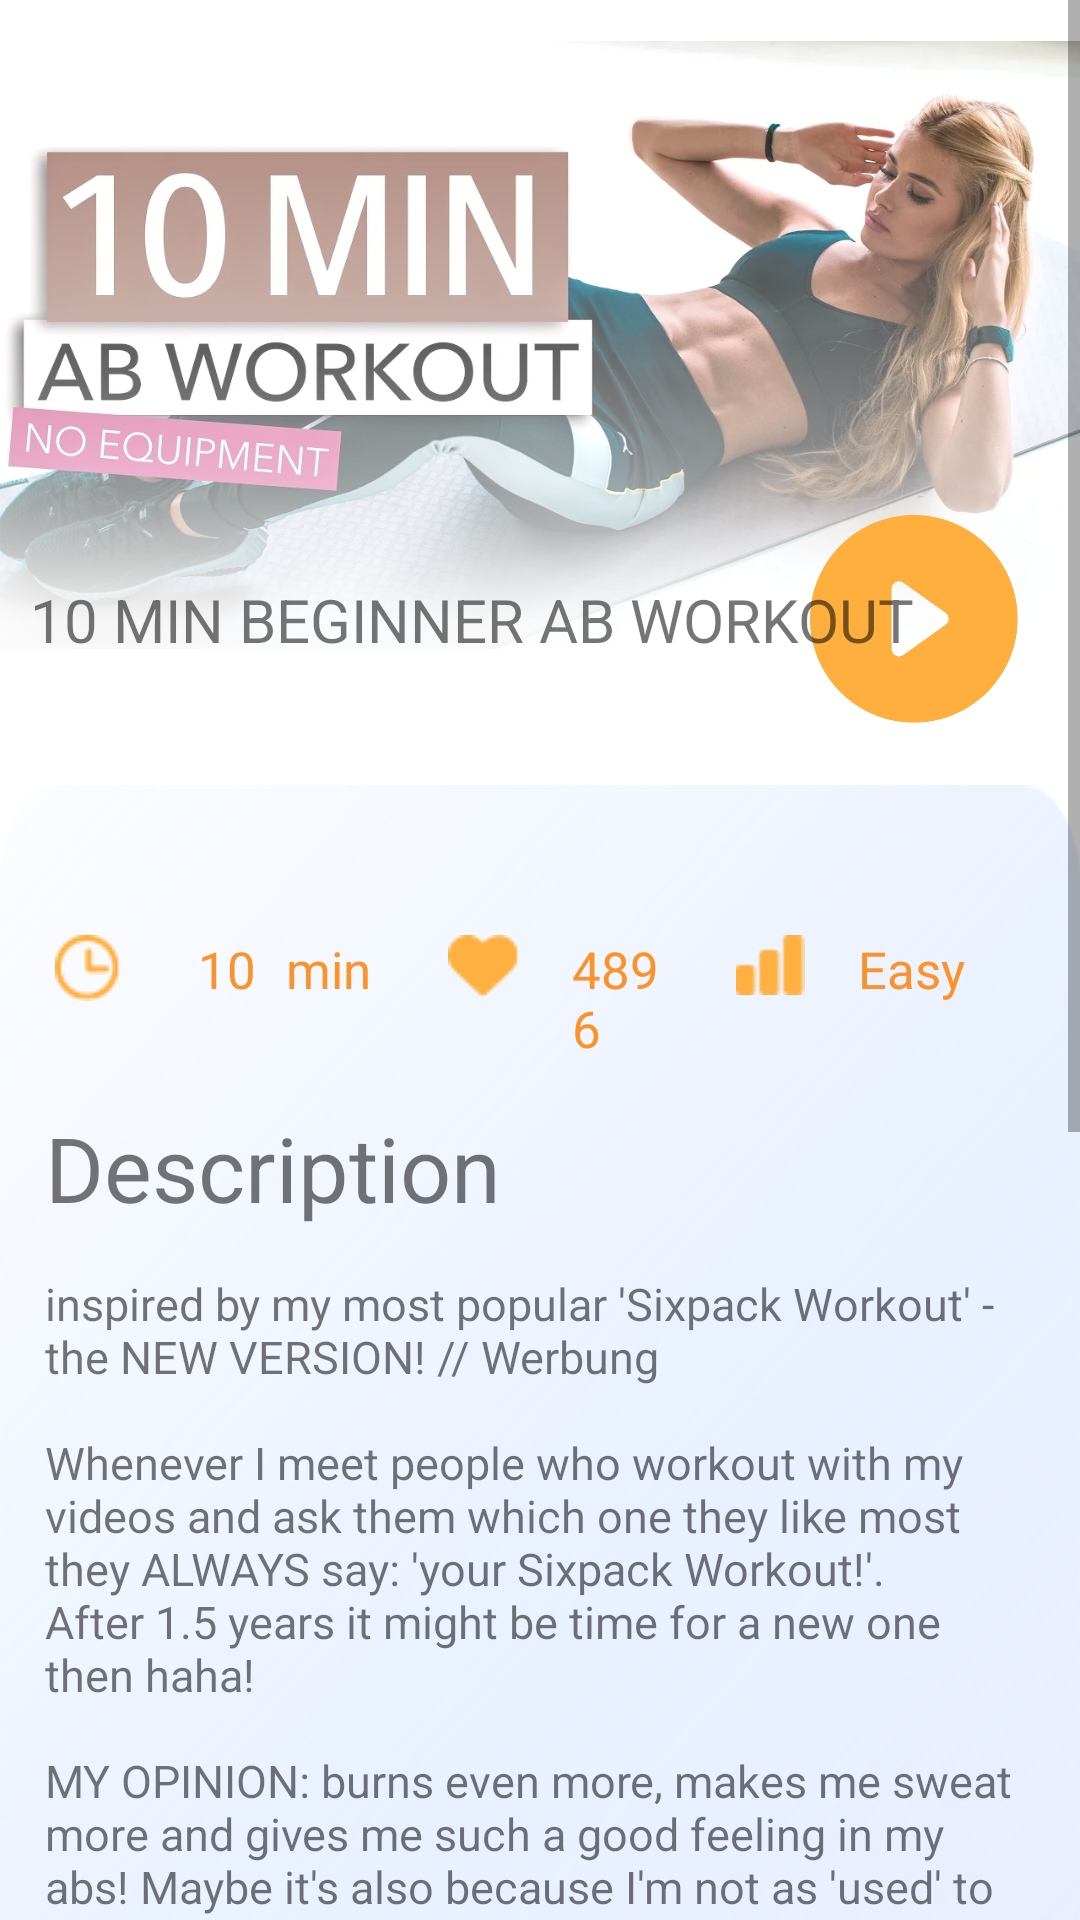

Named icons in this screenshot (1080 x 1920) and their bounding boxes, region(x1, y1, x2, y2):
heart: region(448, 935, 518, 998)
level: region(736, 935, 805, 995)
play: region(810, 515, 1018, 723)
time: region(55, 935, 119, 1001)
